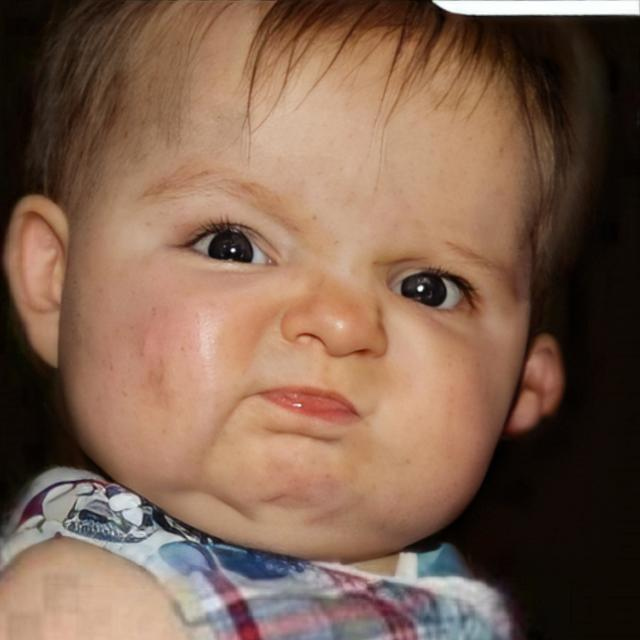anger: (93, 61, 532, 533)
